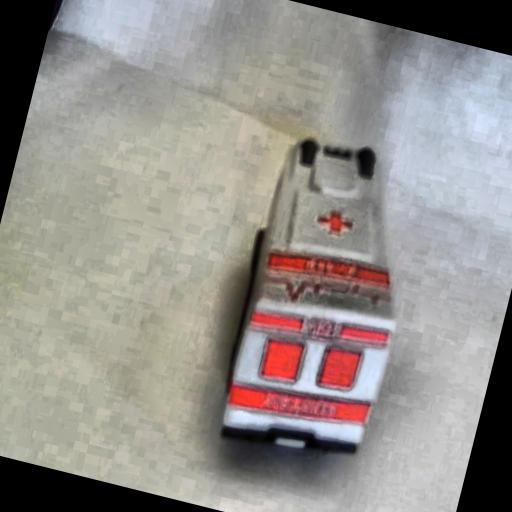ambulance: (206, 126, 435, 472)
